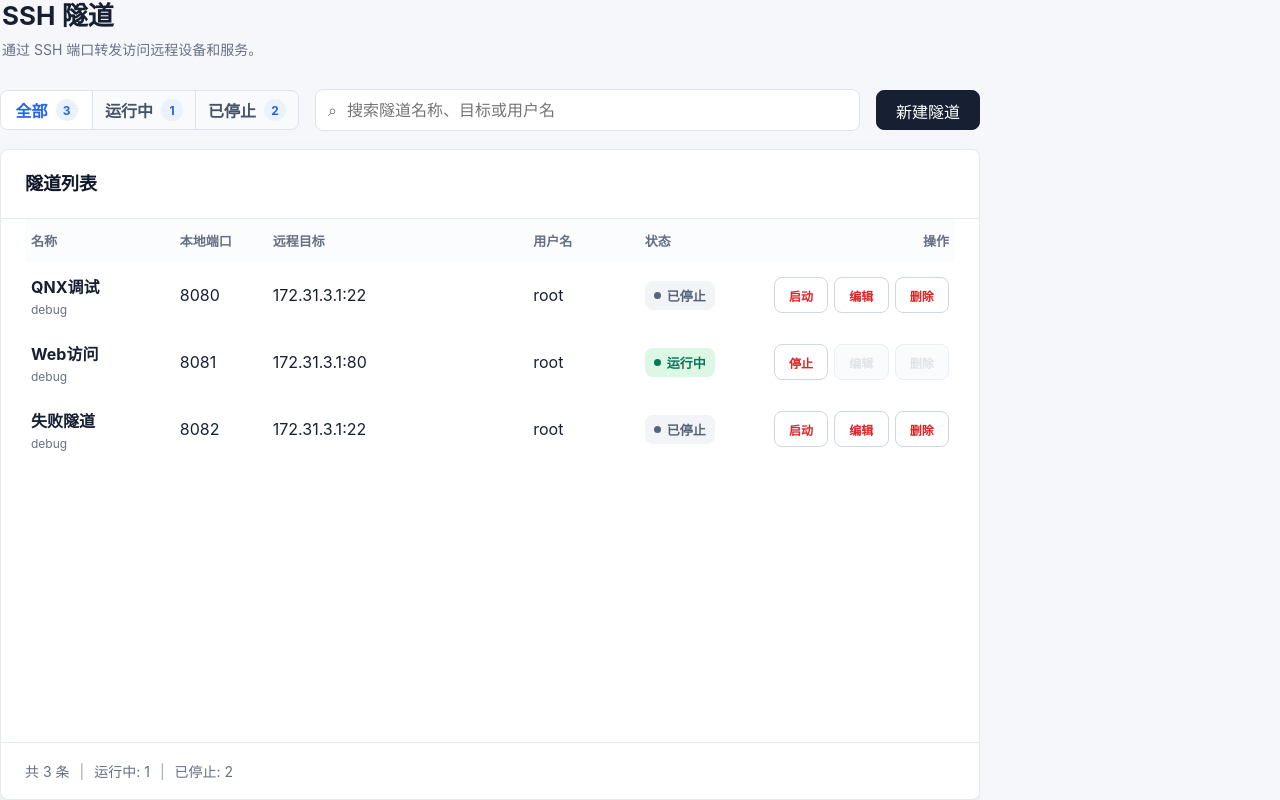
opens edit form in a dialog
The width and height of the screenshot is (1280, 800).
Click the button "编辑" in the row of "QNX调试".
click(861, 295)  # box [834, 277, 888, 313]
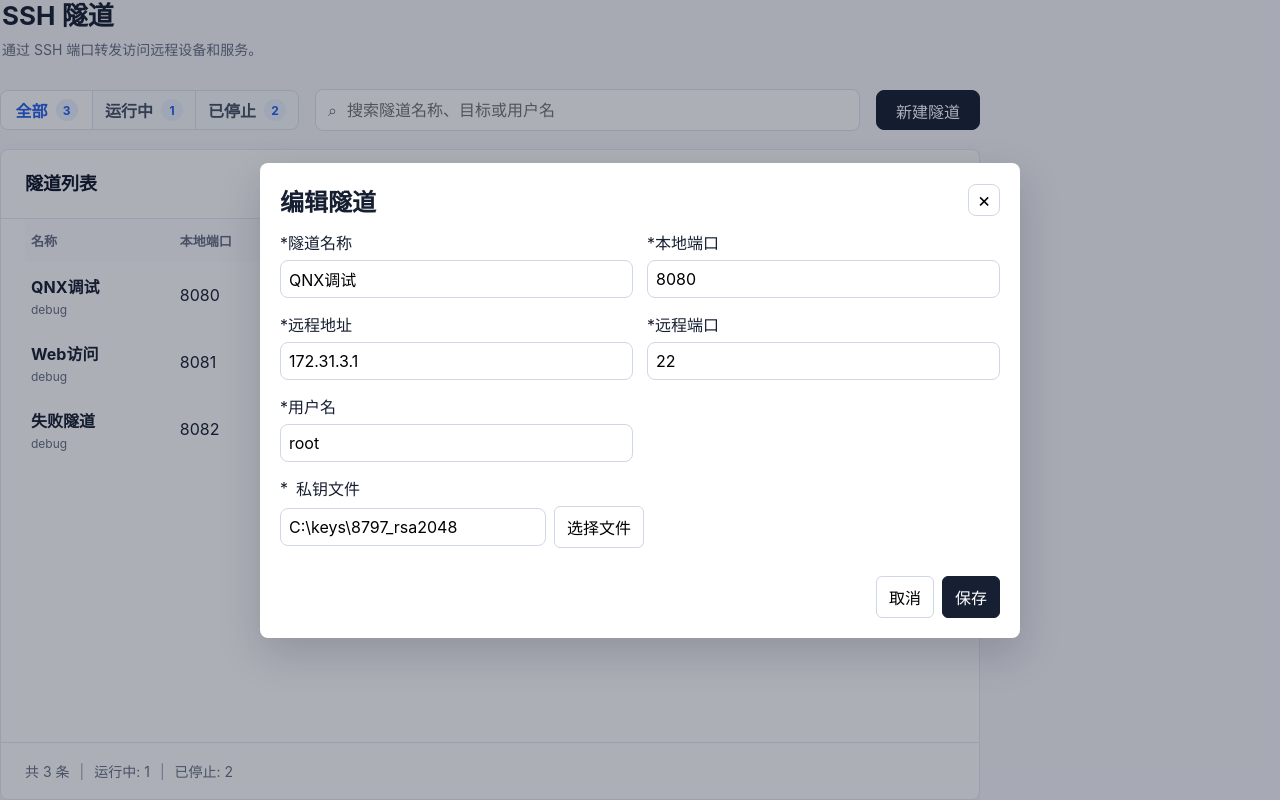
Expected: the table named "SSH 隧道列表" is shown, [25, 219, 955, 463]
Expected: the field labelled "隧道名称" holds "QNX调试", [280, 260, 633, 298]
